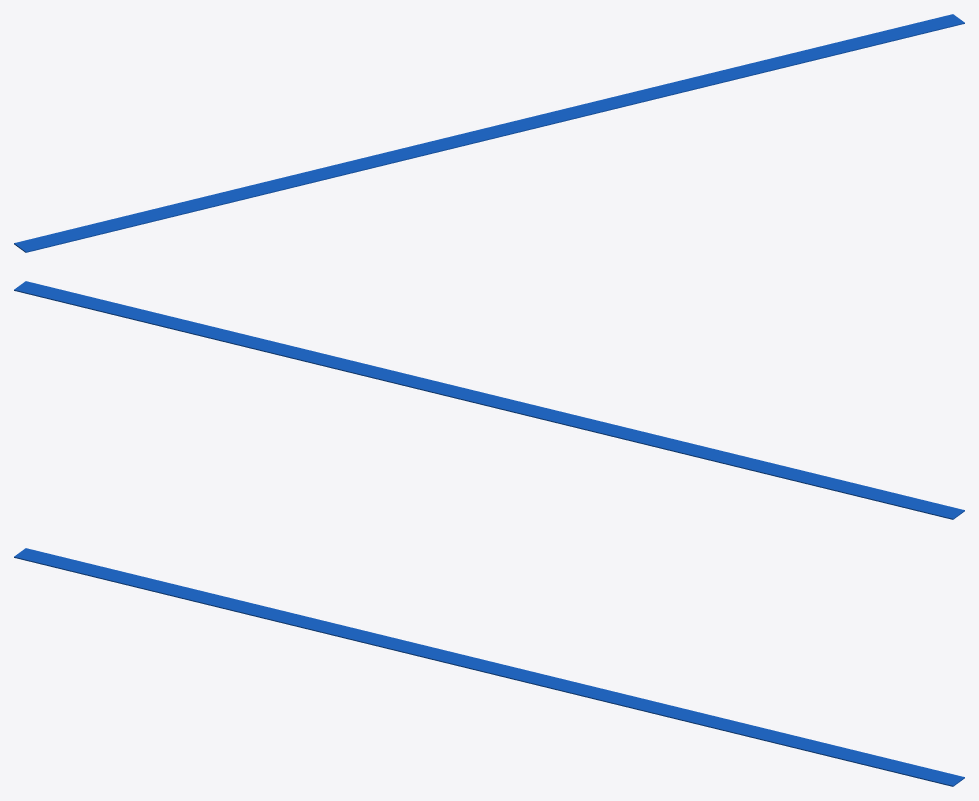
3 renders of one model, top to bottom at view 1: azimuth 30°, elevation 25°; view 2: azimuth 150°, elevation 25°; view 3: azimuth 330°, elevation 25°, orthographic.
Size of what is drawn, in the model's own units: 45.72 by 0.05 by 1.
1 material, 1 textured.
